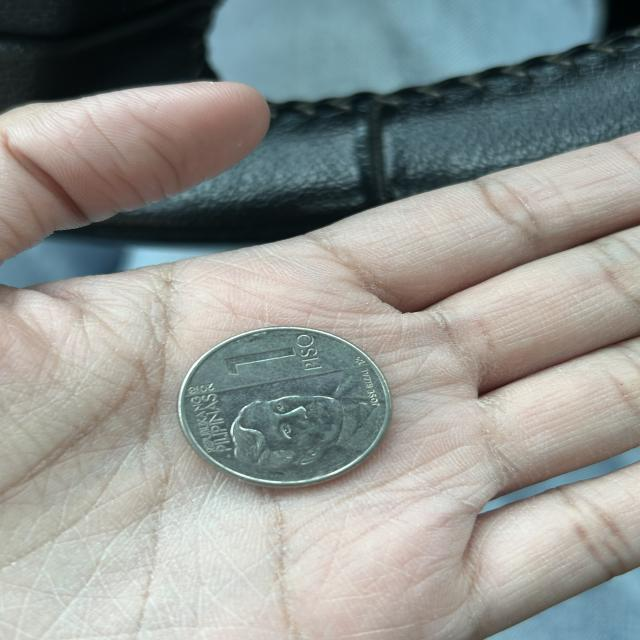1_New_Front: (218, 335, 330, 378)
